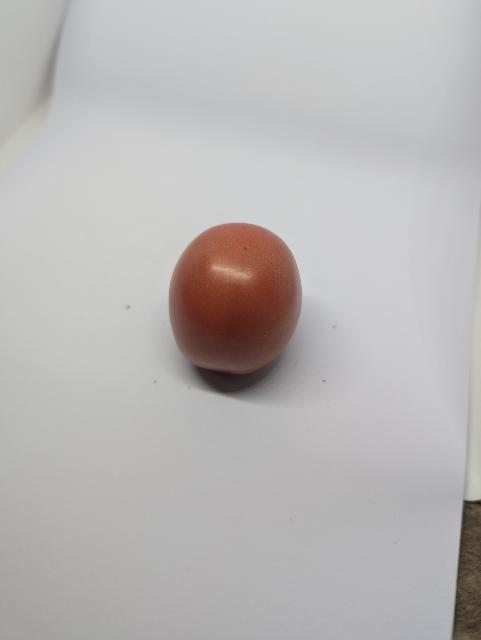red: (161, 208, 307, 377)
